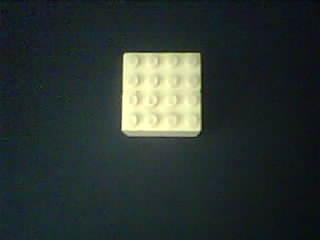lego: (121, 50, 201, 138)
